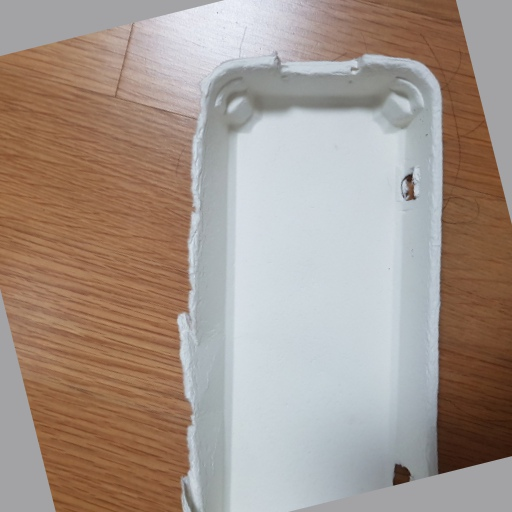Paper_0: (184, 48, 446, 480)
